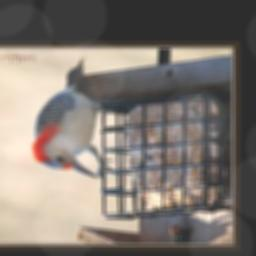Woodpecker: (32, 56, 116, 177)
